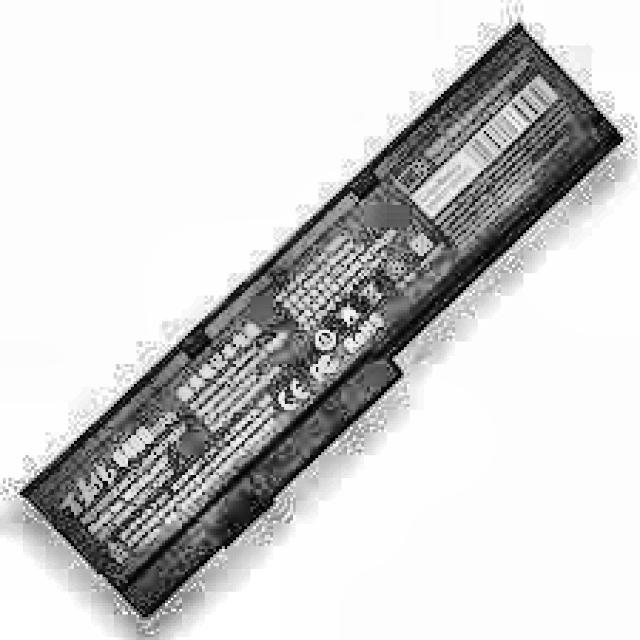Battery: (26, 22, 623, 612)
